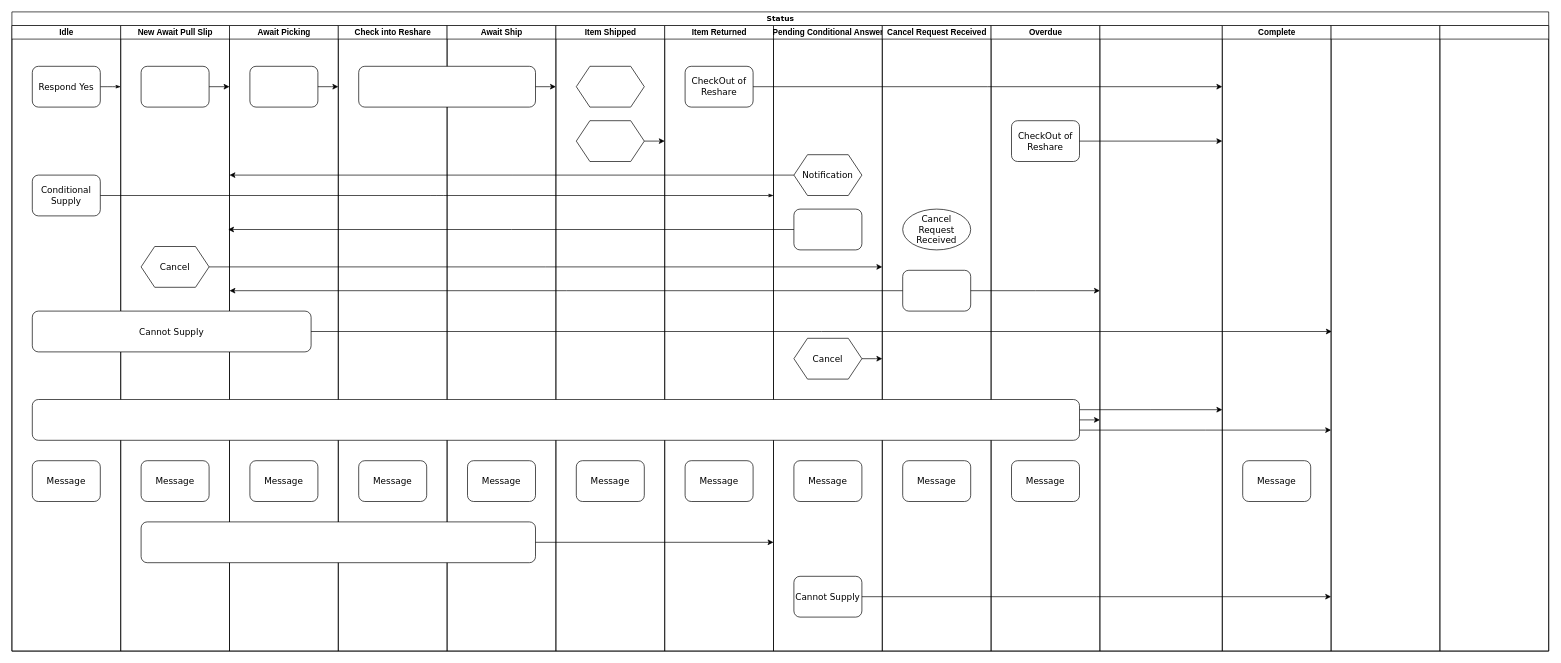
Image size: 1561x663. Some labels were removed from this diagram. The shapes that lost their labels are listed below. From the top down, each one's centre as x and y in pixels, then its label:
the point at 174,86: Print Pull Slip
the point at 283,86: CheckIn to Reshare
the point at 447,86: Mark Shipped
the point at 610,86: Received
the point at 610,141: Shipped Return
the point at 827,229: Supplier Mark Conditions Agreed
the point at 936,290: Respond to Cancel
the point at 1160,338: Cancelled
the point at 1385,338: Not Supplied
the point at 1494,338: Unfilled
the point at 556,419: Manual Close
the point at 338,542: Add Condition
